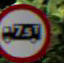Heavy Vehicles: (0, 2, 54, 62)
